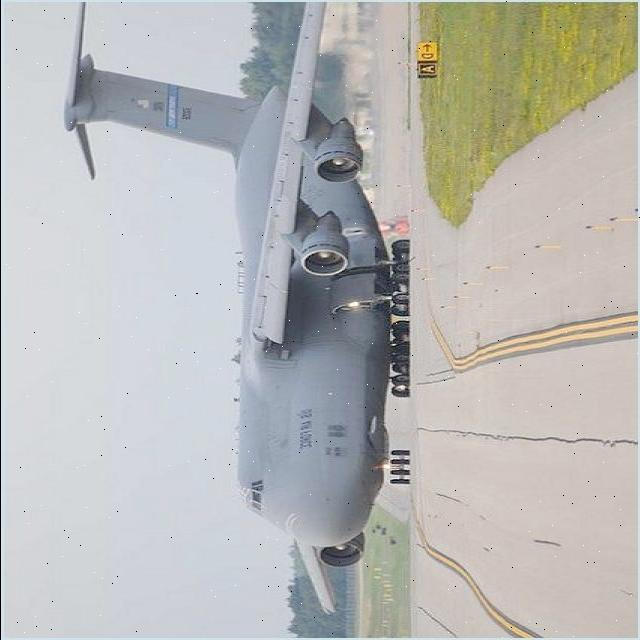C5: (27, 7, 433, 639)
